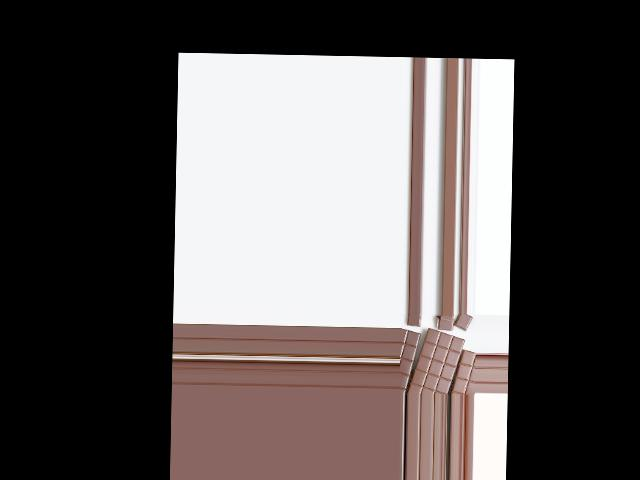chocolate: (409, 328, 466, 395)
